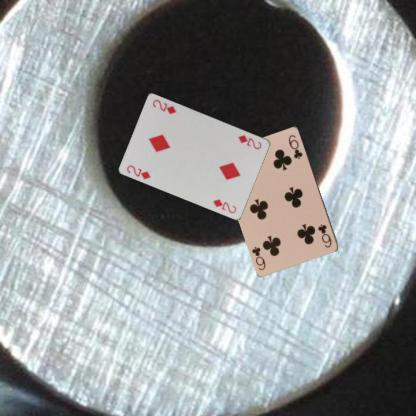2d: (236, 132, 263, 151), (124, 162, 152, 180)
6c: (315, 222, 333, 249)
